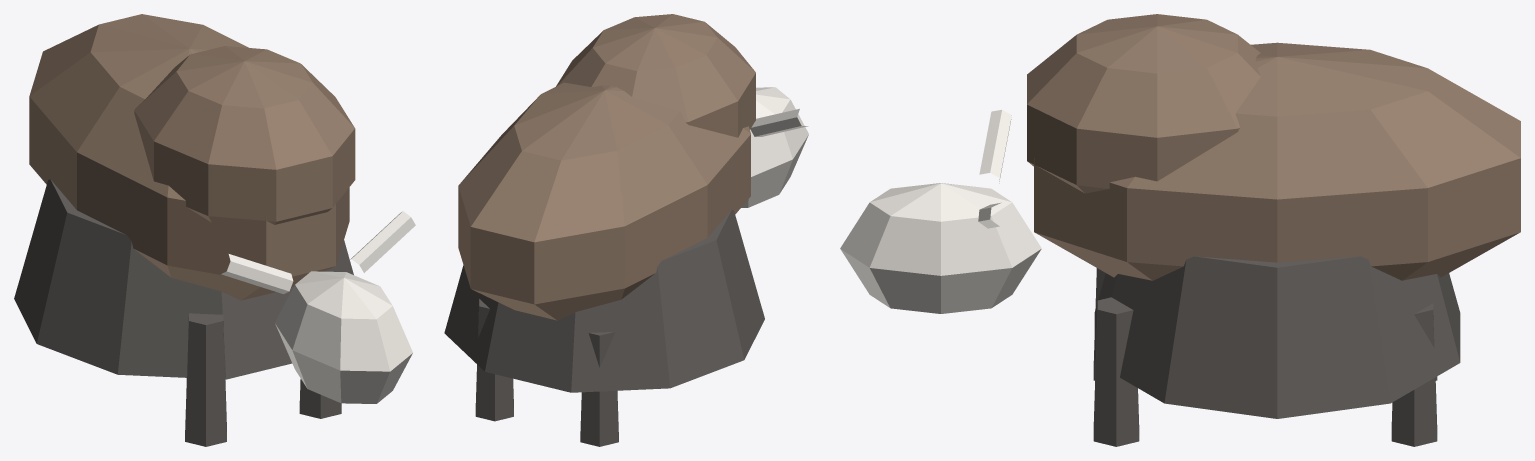
3 renders of one model, left to right at view 1: azimuth 30°, elevation 25°; view 2: azimuth 150°, elevation 25°; view 3: azimuth 270°, elevation 25°, orthographic. The views are drawn at different scales.
Parts seen in each view (by area): view 1: WB_yak_yakBrown_w; view 2: WB_yak_yakBrown_w; view 3: WB_yak_yakBrown_w.
Boxes of the visible parts, box(x1,y1,x2,y2) form: WB_yak_yakBrown_w: box(14, 14, 415, 446); WB_yak_yakBrown_w: box(444, 14, 808, 446); WB_yak_yakBrown_w: box(840, 14, 1520, 446).
Size of the model in its own units: 1.6 by 1.74 by 2.83.
